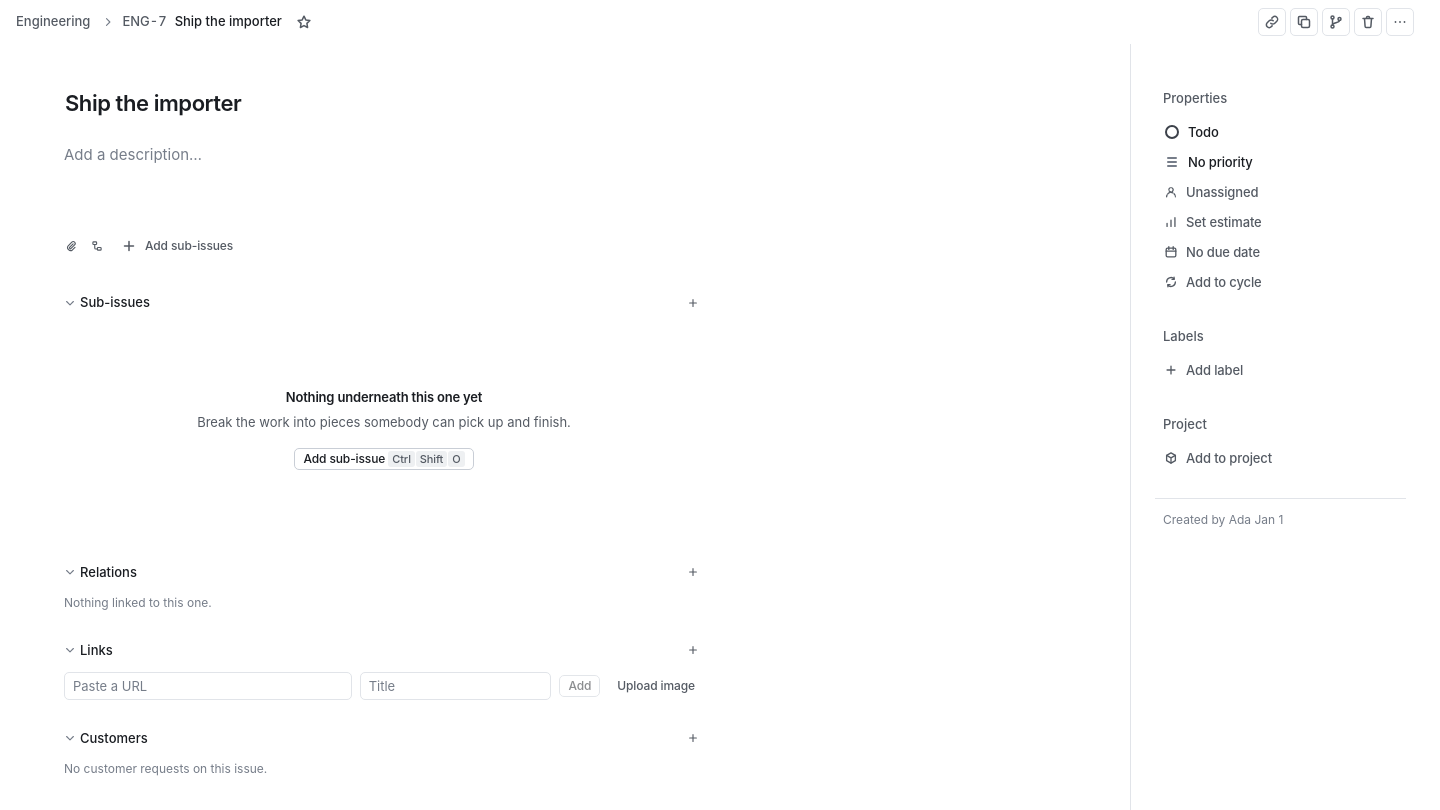
Test: the issue header menu › offers the shared properties as cascades, and keeps this screen’s own items
This screenshot has width=1440, height=810.
Click the button named "More actions" at (1400, 22), box [1386, 8, 1414, 36]
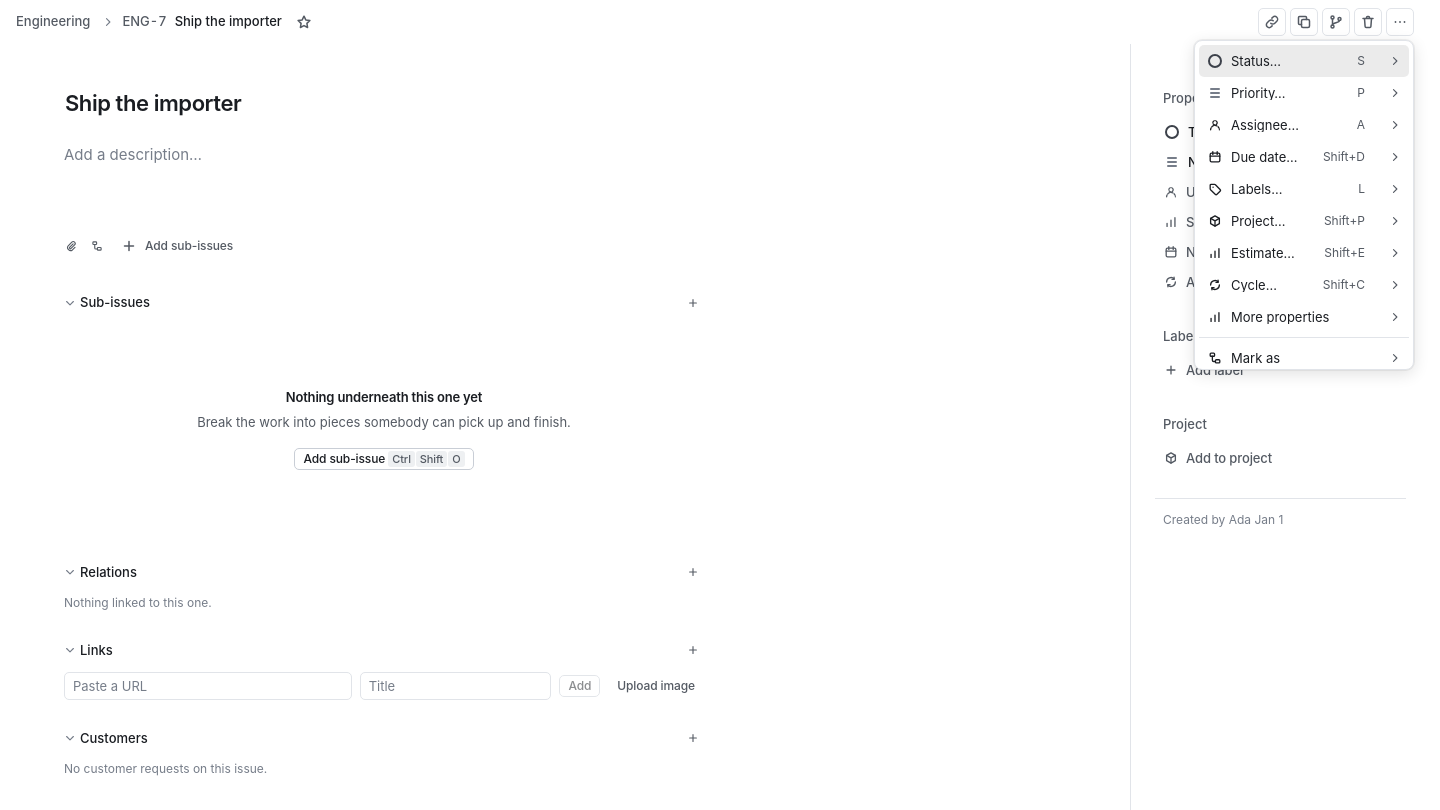
expect the menu item "Status… S" is shown: met, box [1199, 45, 1409, 77]
expect the menu item "Priority… P" is shown: met, box [1207, 84, 1401, 101]
expect the menu item "Assignee… A" is shown: met, box [1208, 116, 1401, 132]
